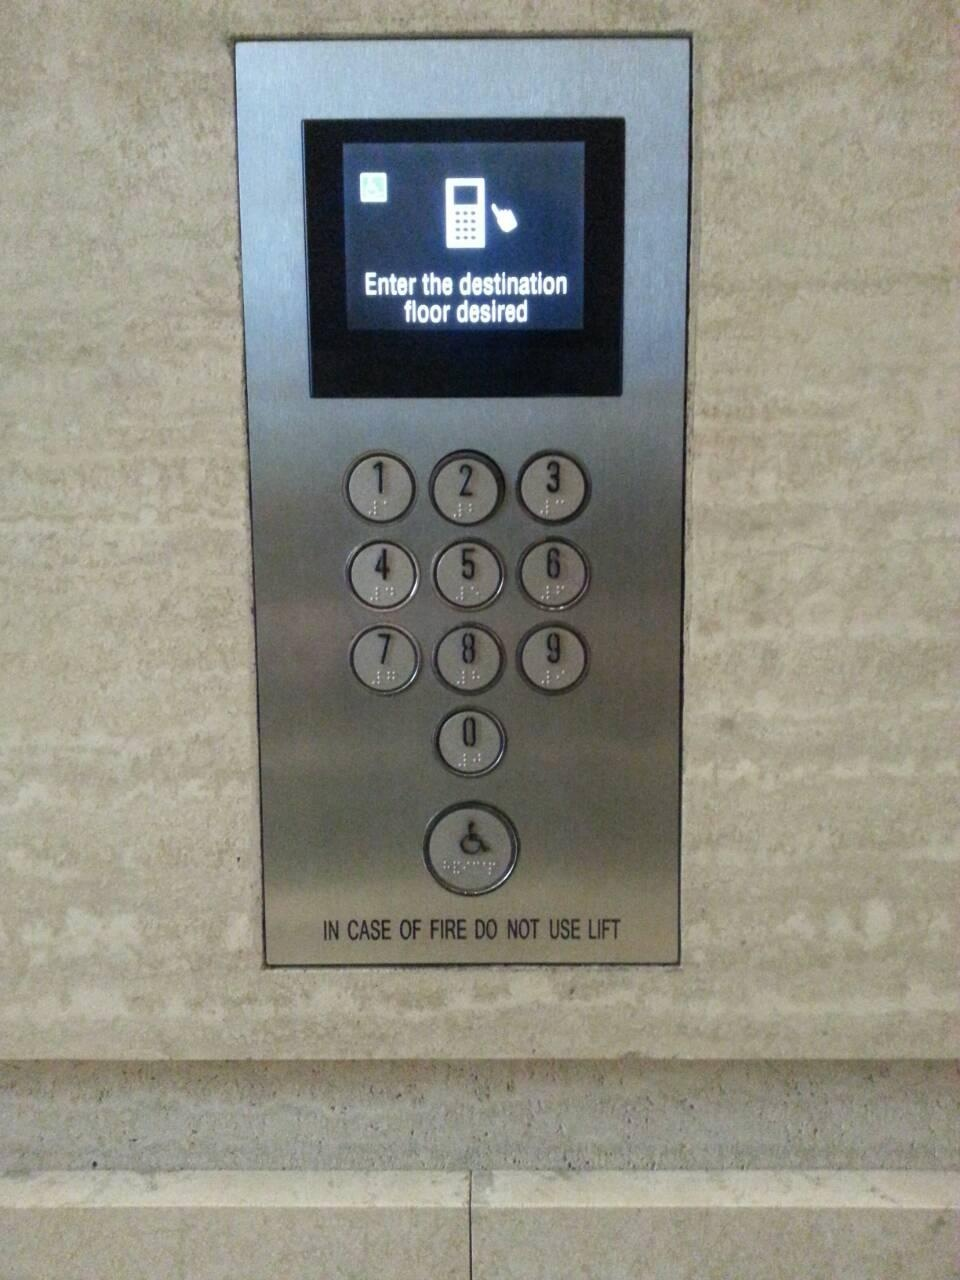0: (433, 706, 509, 777)
1: (346, 453, 415, 523)
2: (428, 450, 504, 526)
3: (515, 449, 592, 526)
4: (345, 540, 419, 614)
5: (430, 538, 505, 613)
6: (515, 537, 594, 612)
7: (347, 622, 419, 693)
8: (432, 622, 508, 695)
9: (514, 622, 592, 697)
CH: (421, 800, 522, 901)
